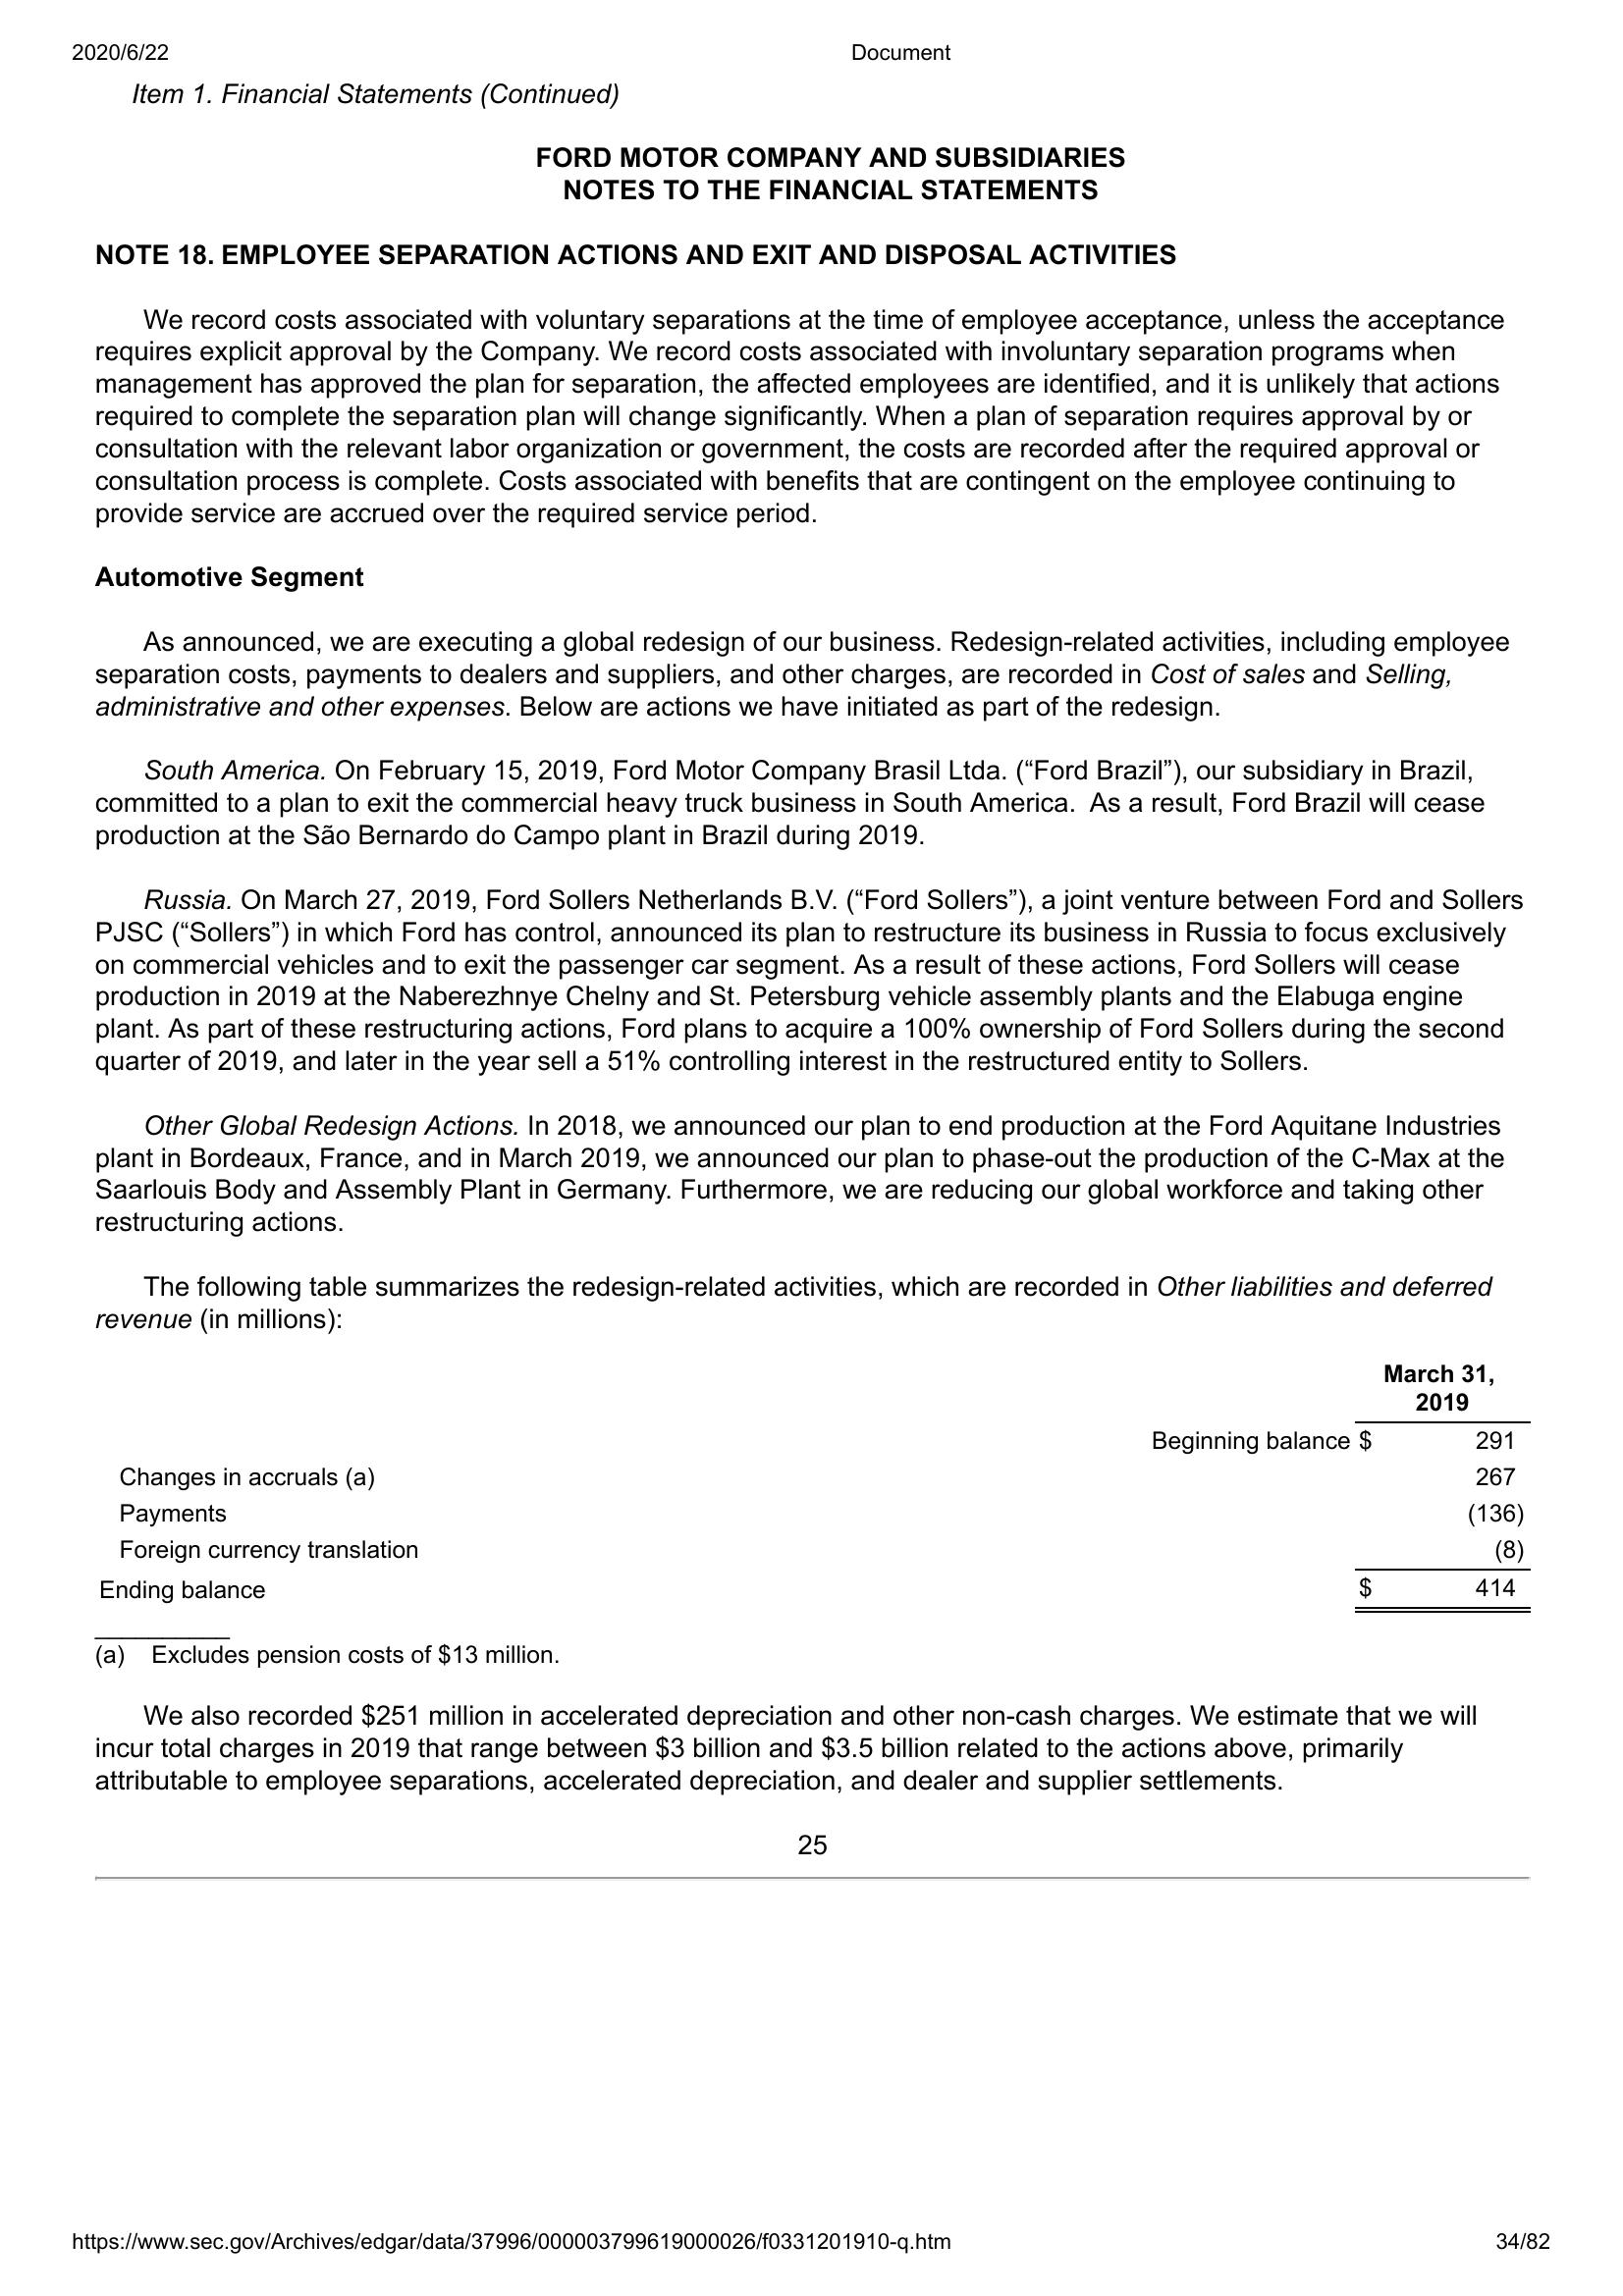table: (77, 1346, 1540, 1618)
